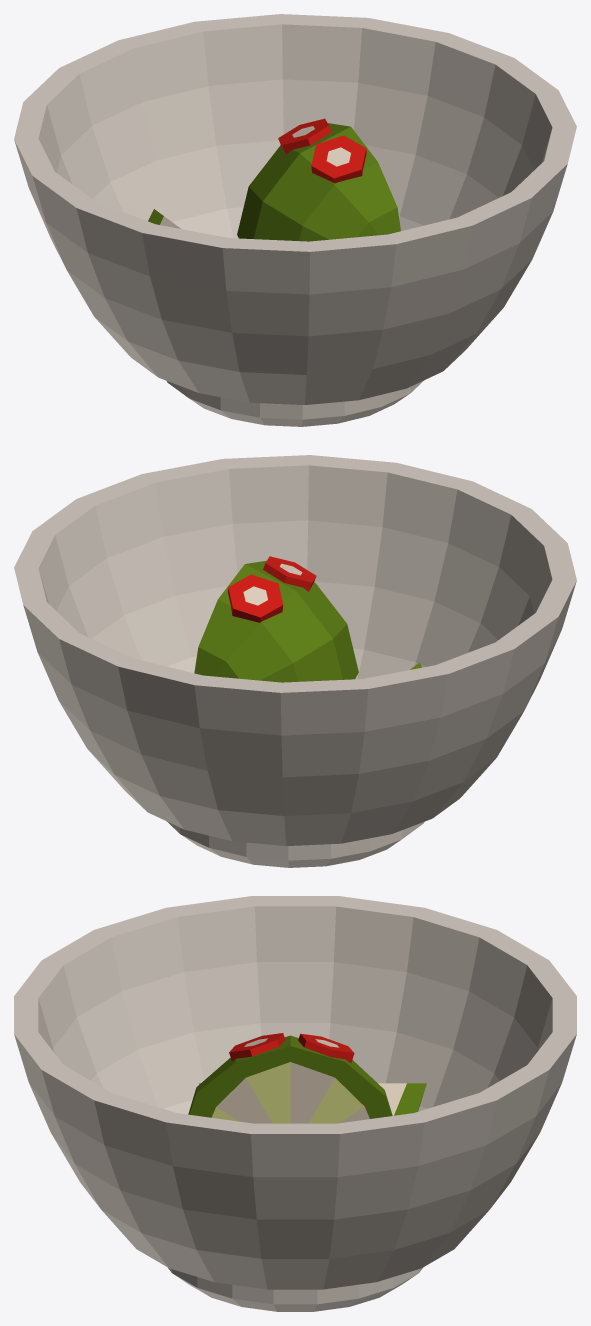
The model's file is SM_Cook_SideBowl_Lime_01.glb.
3 renders of one model, top to bottom at view 1: azimuth 30°, elevation 25°; view 2: azimuth 150°, elevation 25°; view 3: azimuth 270°, elevation 25°, orthographic.
Visible parts, largest first — view 1: SM_Cook_SideBowl_Lime_01; view 2: SM_Cook_SideBowl_Lime_01; view 3: SM_Cook_SideBowl_Lime_01.
Part boxes in pixels (x1,y1,x2,y2): SM_Cook_SideBowl_Lime_01: [14, 14, 576, 426]; SM_Cook_SideBowl_Lime_01: [14, 455, 576, 867]; SM_Cook_SideBowl_Lime_01: [14, 896, 576, 1311].
Size of the model in its own units: 0.1136 by 0.055 by 0.1136.
Materials: 1 (1 with a texture image).
